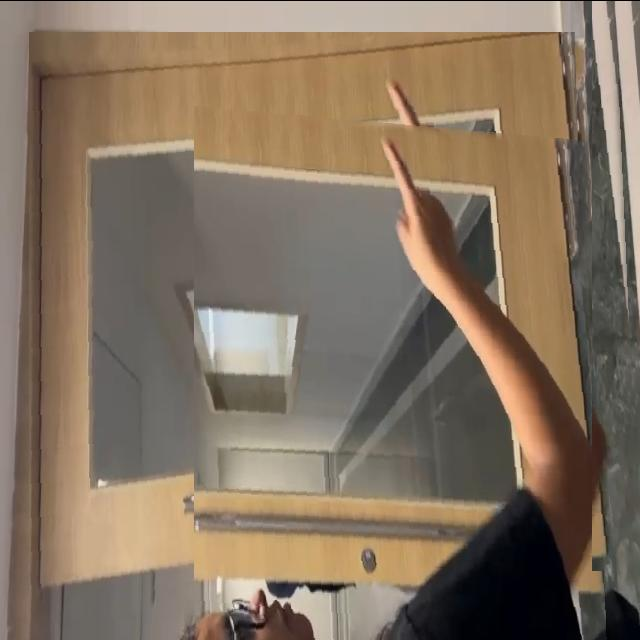door: (29, 31, 590, 602)
floor: (592, 0, 640, 570)
moving_object: (194, 103, 608, 640)
